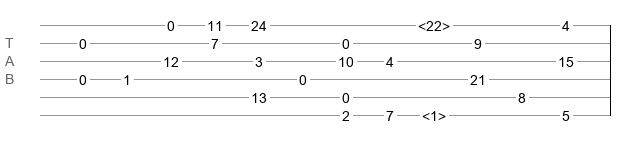0: (79, 72, 87, 82), (79, 36, 87, 46), (167, 18, 175, 28), (299, 72, 307, 82), (342, 36, 350, 46), (342, 90, 350, 100)
1: (123, 72, 131, 82)
10: (338, 54, 354, 64)
11: (207, 18, 223, 28)
12: (163, 54, 179, 64)
13: (251, 90, 267, 100)
15: (558, 54, 574, 64)
2: (342, 108, 350, 118)
21: (470, 72, 486, 82)
24: (251, 18, 267, 28)
3: (255, 54, 263, 64)
4: (386, 54, 394, 64), (562, 18, 570, 28)
5: (562, 108, 570, 118)
7: (211, 36, 219, 46), (386, 108, 394, 118)
8: (518, 90, 526, 100)
9: (474, 36, 482, 46)
harmonic: (418, 18, 450, 28), (422, 108, 446, 118)
